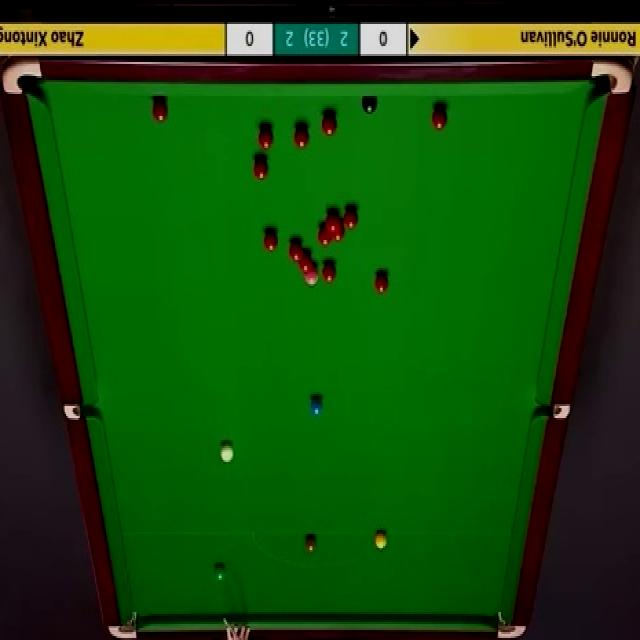black-ball: (361, 93, 378, 116)
blue-ball: (310, 396, 322, 415)
brown-ball: (305, 534, 318, 553)
green-ball: (217, 560, 232, 580)
pink-ball: (304, 266, 320, 288)
red-ball: (257, 124, 275, 152), (151, 98, 169, 125), (253, 155, 270, 182), (320, 112, 339, 136), (293, 125, 309, 152), (374, 270, 390, 296), (432, 107, 448, 132), (288, 236, 304, 261), (322, 261, 337, 285), (263, 229, 278, 253), (343, 208, 359, 230), (316, 225, 331, 248), (326, 211, 340, 235), (298, 254, 313, 272), (331, 225, 344, 243)
white-ball: (219, 442, 233, 464)
yellow-ball: (375, 530, 388, 552)
